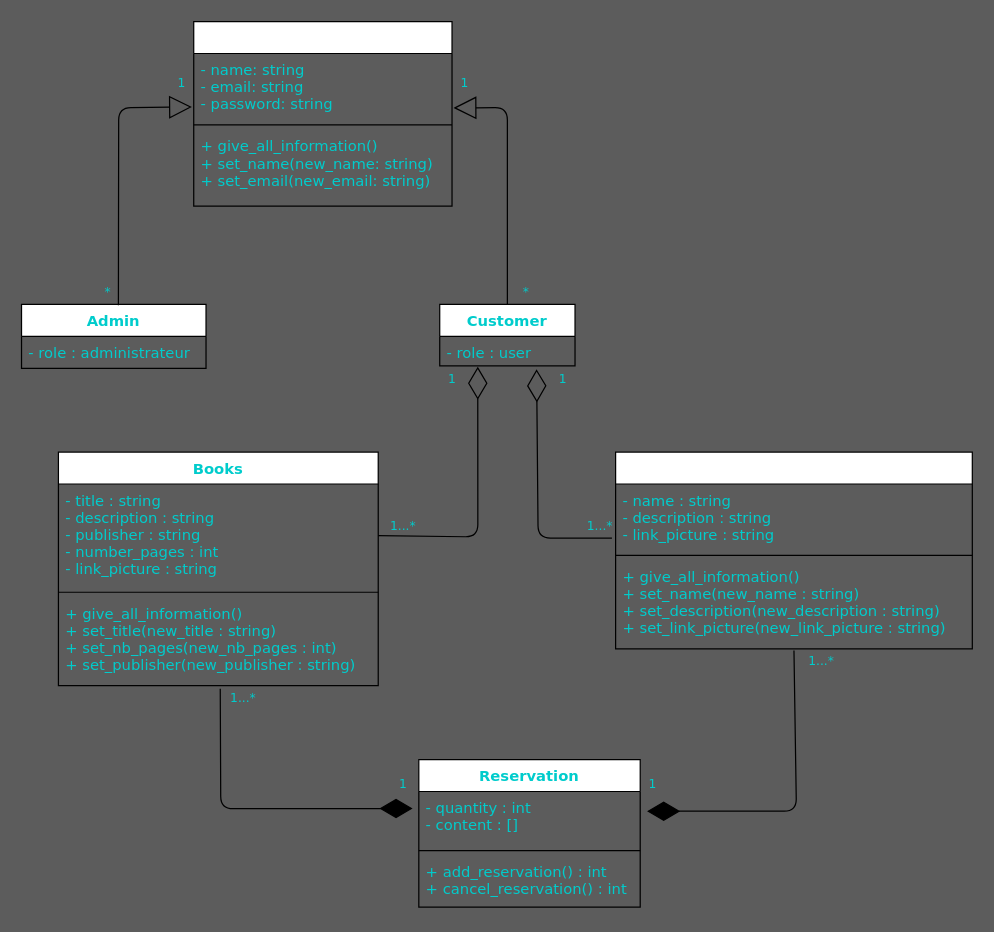
This 994x932 diagram has some shape labels left out. The box of each missing label's shape, as (x1, y1, x2, y2) in pixels:
Objects: (614, 451, 972, 649)
Personne: (192, 20, 452, 206)
